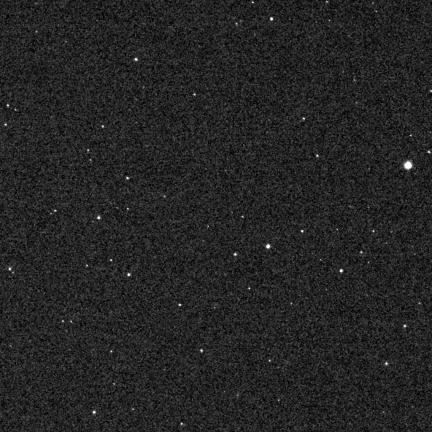blob: (404, 161, 412, 169), (266, 244, 270, 249), (270, 17, 274, 22), (200, 349, 204, 354), (385, 362, 389, 366), (126, 177, 130, 181), (340, 269, 344, 273), (302, 117, 305, 121), (316, 154, 319, 158), (7, 104, 10, 108), (404, 325, 407, 329), (127, 273, 131, 276), (102, 125, 105, 129), (360, 251, 364, 254), (234, 253, 237, 256), (179, 304, 182, 307), (93, 411, 96, 414), (110, 259, 113, 262), (86, 265, 89, 268), (248, 287, 251, 290), (194, 94, 197, 97), (301, 230, 304, 233), (98, 216, 100, 219), (135, 58, 137, 61)
